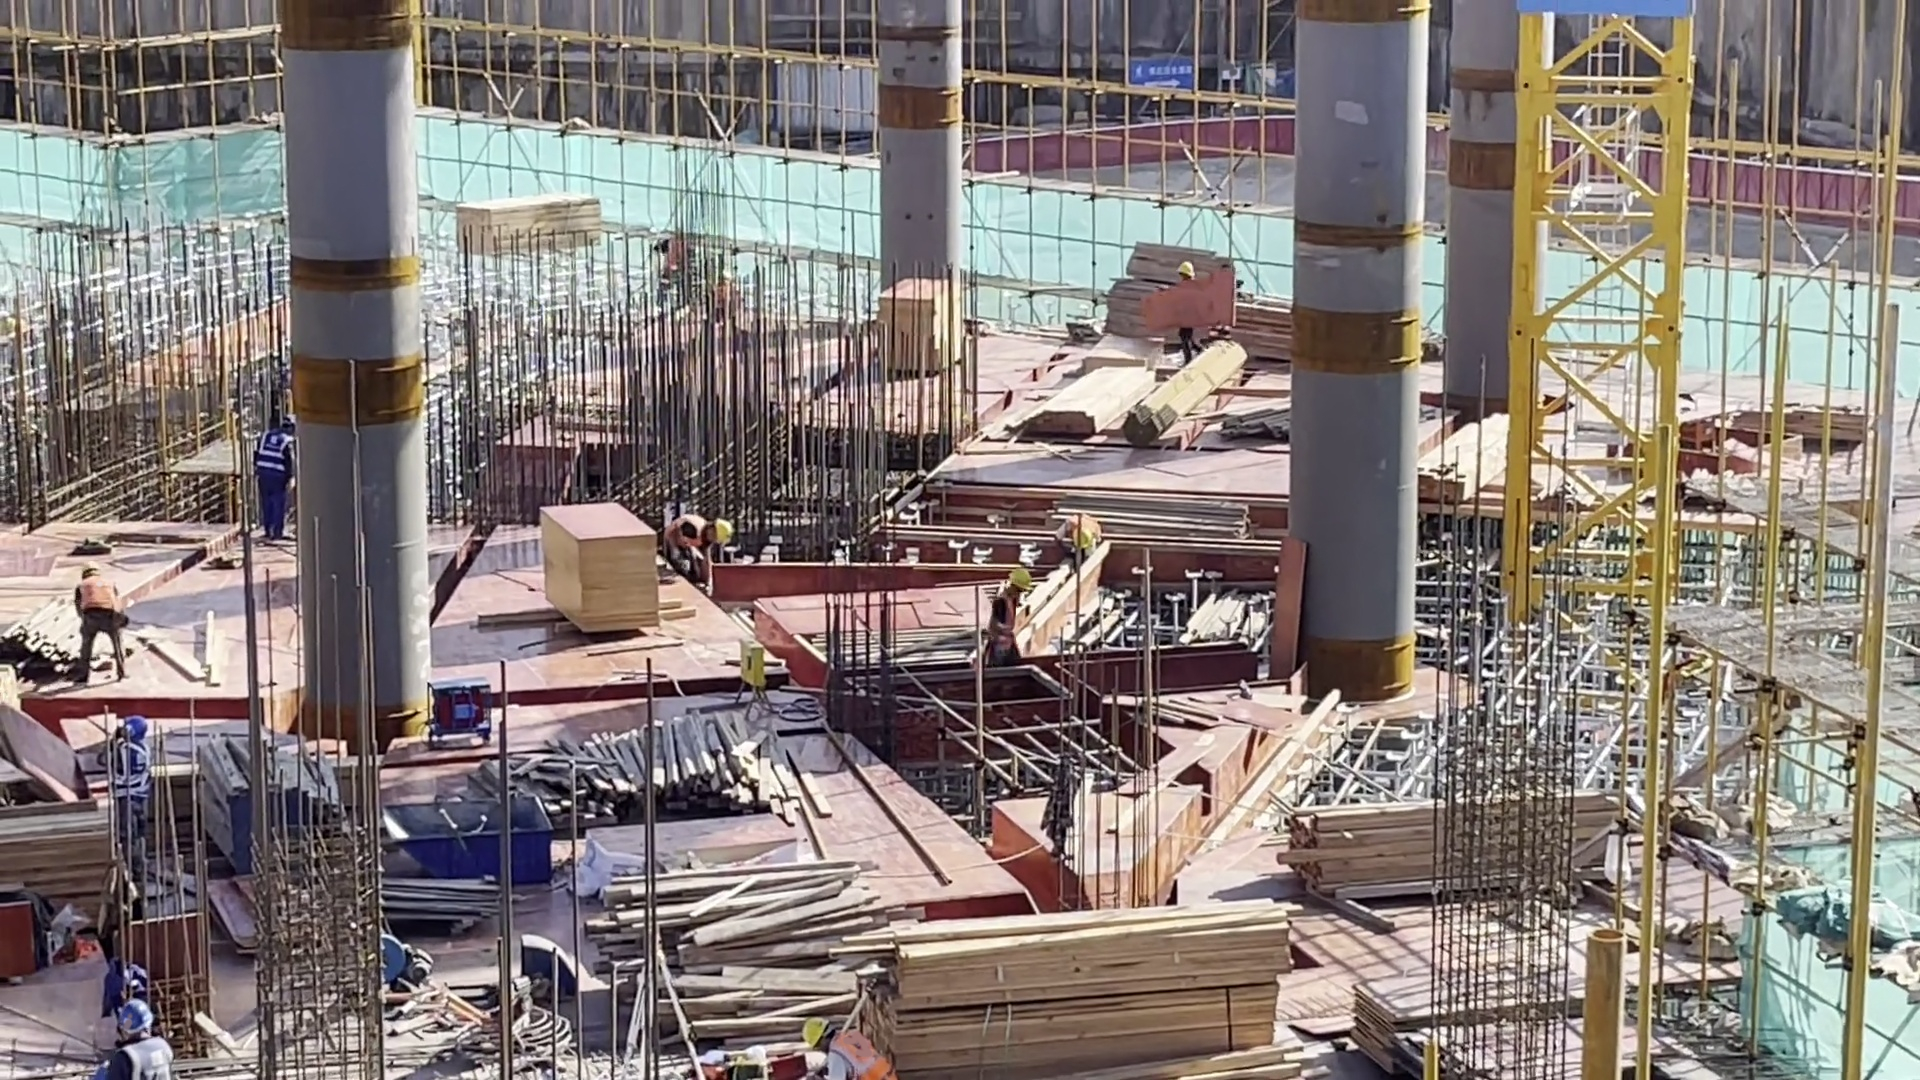board: (1338, 936, 1599, 1080), (547, 506, 660, 629), (1744, 383, 1882, 442), (462, 195, 600, 253), (881, 286, 959, 371)
cutter: (1644, 379, 1724, 469)
fence: (968, 114, 1304, 161), (1701, 146, 1920, 217)
helmet: (123, 1001, 156, 1033), (1066, 515, 1096, 544), (125, 716, 150, 744), (809, 1016, 829, 1047), (1014, 559, 1032, 591), (716, 517, 734, 545), (283, 410, 299, 434), (650, 228, 668, 245), (84, 564, 101, 580), (1177, 263, 1195, 273)
hopper: (393, 776, 558, 894)
person: (100, 708, 154, 876), (656, 236, 752, 329), (75, 561, 142, 682), (99, 997, 176, 1080), (803, 1017, 896, 1080), (256, 408, 299, 537), (994, 566, 1024, 686), (664, 512, 723, 573), (1174, 262, 1206, 361), (1058, 508, 1102, 568)
vest: (78, 566, 124, 619), (828, 1037, 878, 1080), (991, 586, 1018, 661), (116, 731, 143, 804), (128, 1031, 163, 1080), (669, 249, 701, 291), (269, 424, 289, 494), (1066, 506, 1103, 542), (704, 279, 736, 319), (674, 506, 704, 546)
wood: (893, 931, 1251, 1080), (1084, 252, 1396, 349), (1271, 811, 1614, 874), (1, 836, 141, 941), (1016, 366, 1146, 466), (1168, 361, 1266, 464)
